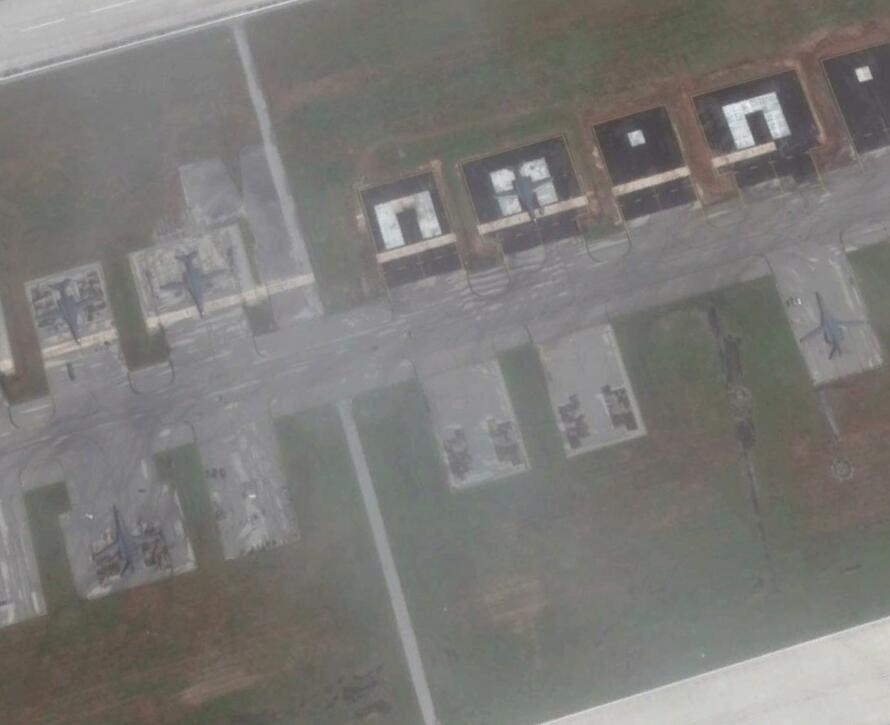A10: (87, 503, 161, 582), (797, 290, 870, 361), (160, 251, 233, 316), (37, 278, 103, 345), (490, 158, 558, 223)
